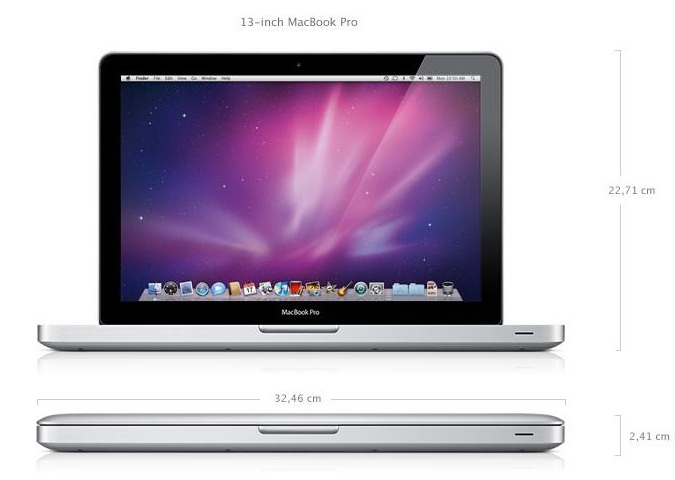Apple: (273, 303, 332, 323)
